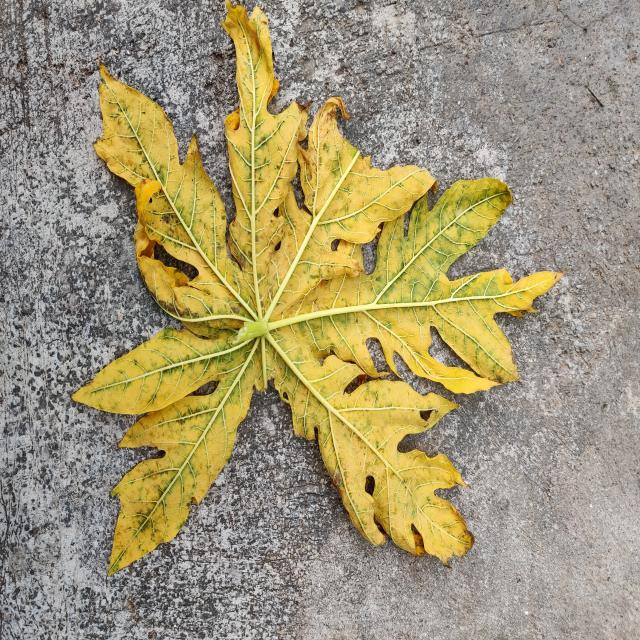fasiation: (72, 3, 560, 573)
